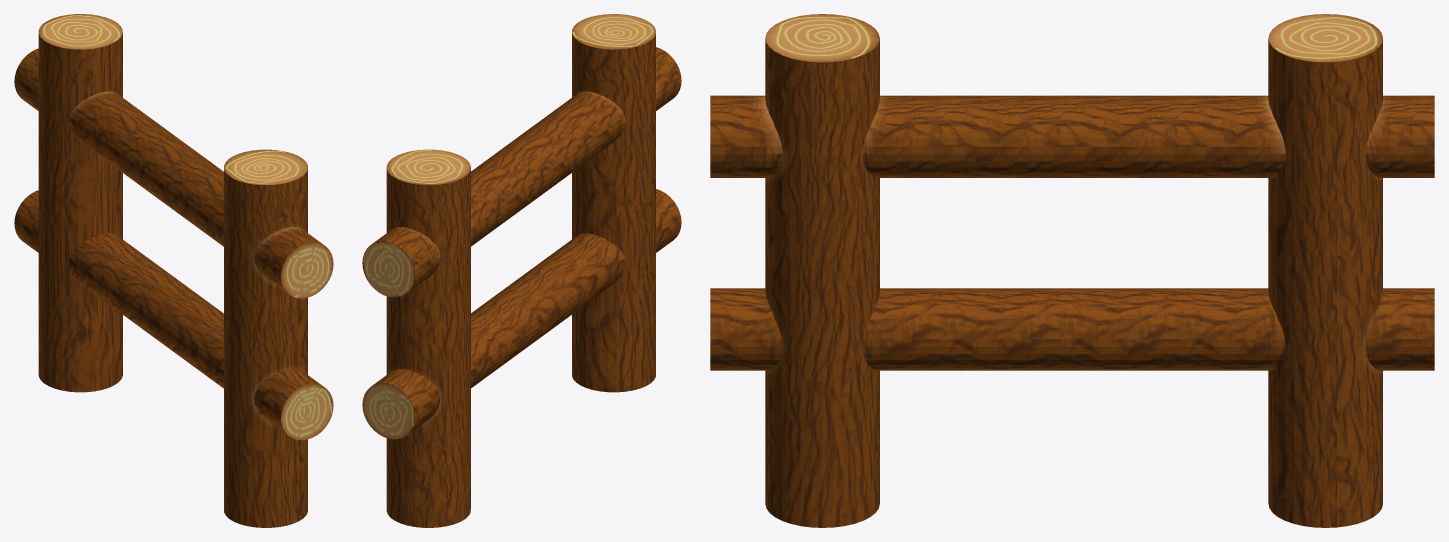
File: fence.fbx
3 renders of one model, left to right at view 1: azimuth 30°, elevation 25°; view 2: azimuth 150°, elevation 25°; view 3: azimuth 270°, elevation 25°, orthographic. The views are drawn at different scales.
Parts seen in each view (by area): view 1: Cylinder.003; view 2: Cylinder.003; view 3: Cylinder.003.
Part boxes in pixels (x1,y1,x2,y2): Cylinder.003: [14, 14, 333, 527]; Cylinder.003: [362, 14, 681, 527]; Cylinder.003: [710, 14, 1434, 527].
Bounding box in the file's own units: 110 × 494 × 696.
1 material, 1 textured.
